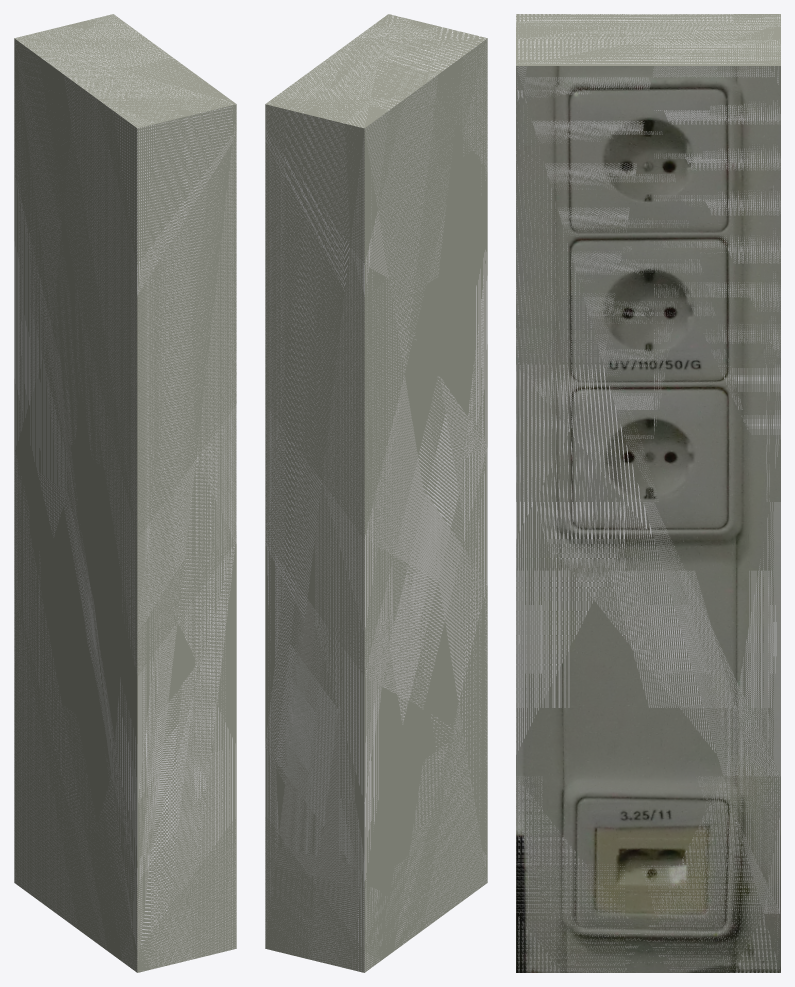
File: steckdosenleiste_schlafzimmer.dae
3 views of the same model, side by side, from view 1: azimuth 30°, elevation 25°; view 2: azimuth 150°, elevation 25°; view 3: azimuth 270°, elevation 25° (orthographic). The views are drawn at different scales.
Parts seen in each view (by area): view 1: SketchUp; view 2: SketchUp; view 3: SketchUp (×2).
Part boxes in pixels (x1=…): SketchUp: x1=14, y1=14, x2=236, y2=972; SketchUp: x1=265, y1=14, x2=487, y2=972; SketchUp (×2): x1=516, y1=14, x2=780, y2=972.
Bounding box in the file's own units: 0.0603 × 0.1295 × 0.4896.
Materials: 3 (1 with a texture image).
